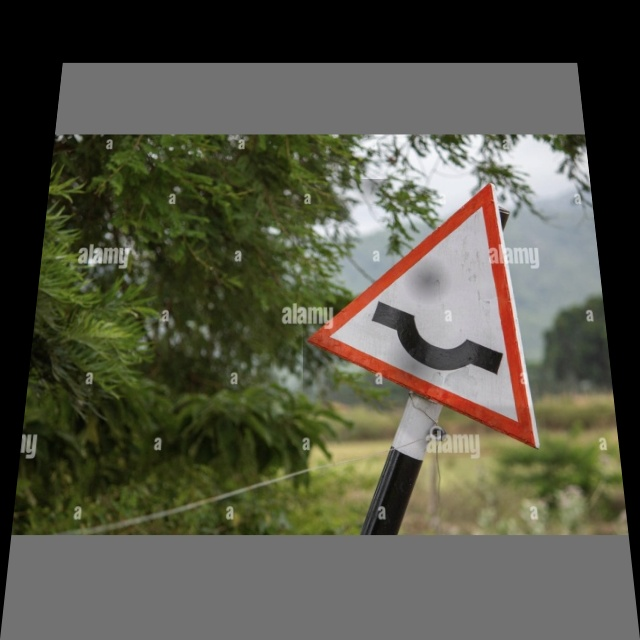Dangerous_Dip: (303, 179, 545, 446)
